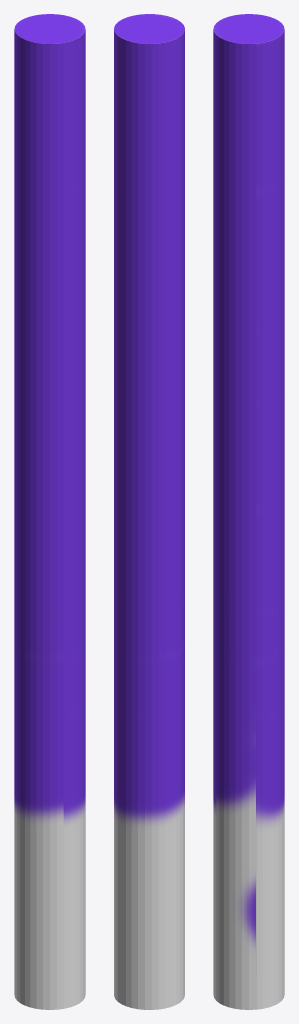
Rendered from AxSpearManWeapon.obj.
3 views of the same model, side by side, from view 1: azimuth 90°, elevation 25°; view 2: azimuth 150°, elevation 25°; view 3: azimuth 270°, elevation 25° (orthographic).
Parts seen in each view (by area): view 1: 円柱; view 2: 円柱; view 3: 円柱.
Part boxes in pixels (x1,y1,x2,y2): 円柱: [14, 14, 85, 1009]; 円柱: [114, 14, 184, 1009]; 円柱: [213, 14, 284, 1009].
Bounding box in the file's own units: 0.4 × 6 × 0.4.
Materials: 1 (1 with a texture image).
